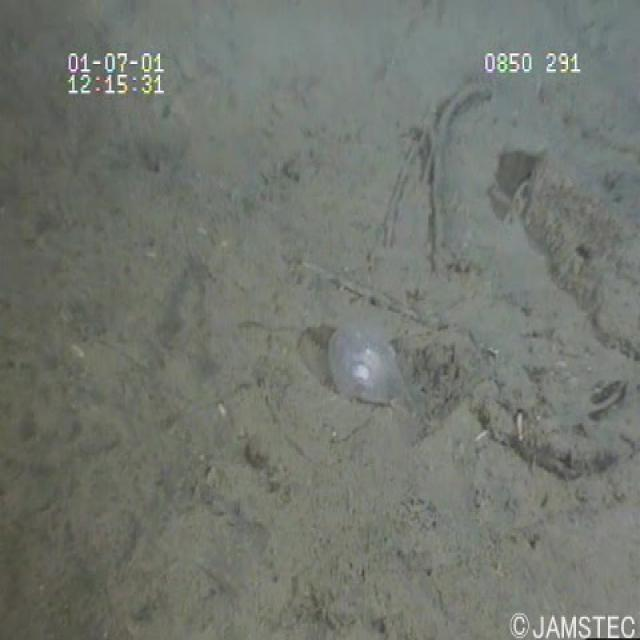plastic: (320, 302, 417, 423)
